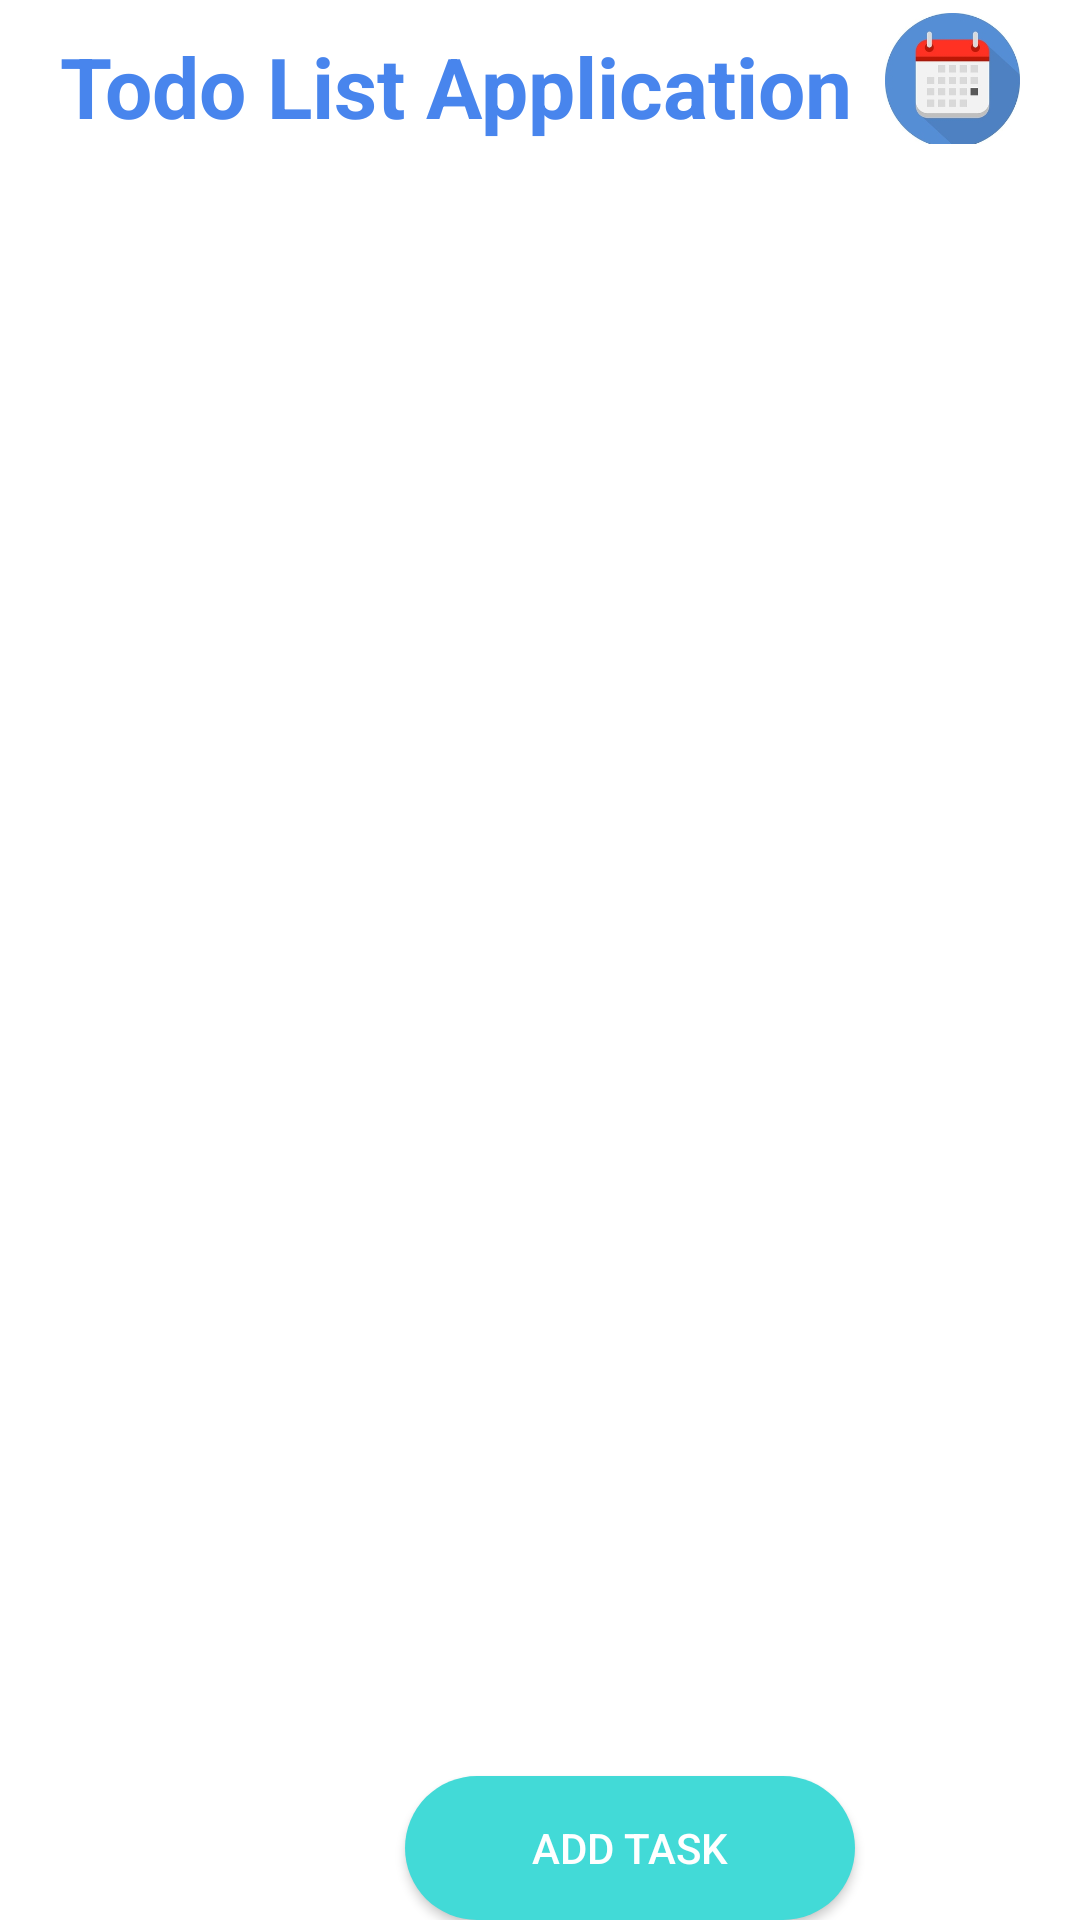

Screen size 1080w x 1920h. Icon name, then its box in pixels as (x1, y1, x2, y2):
calendar: (885, 13, 1020, 144)
